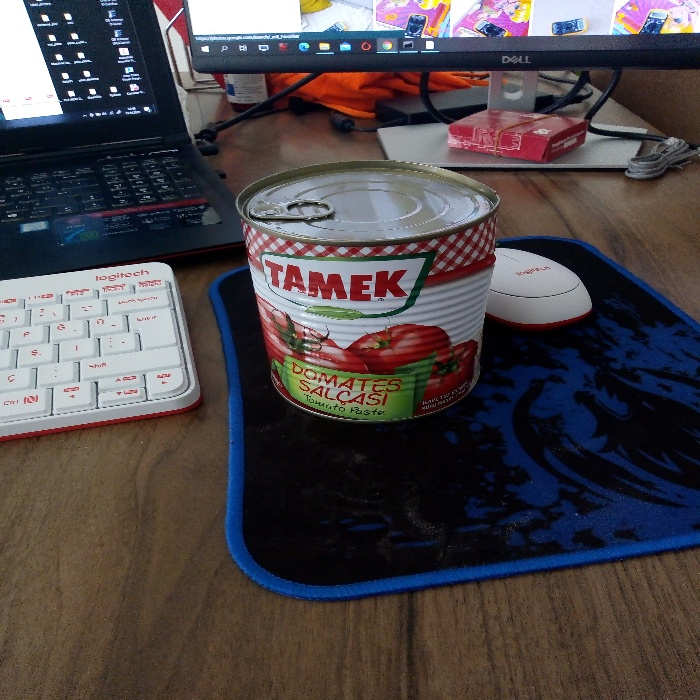salca: (194, 120, 525, 439)
